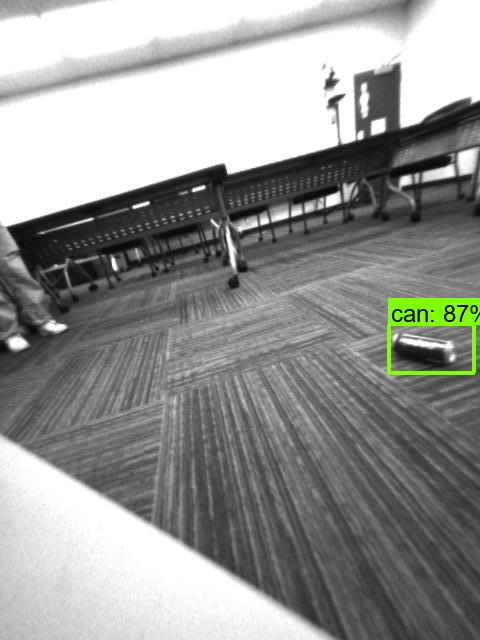can: (388, 327, 458, 367)
